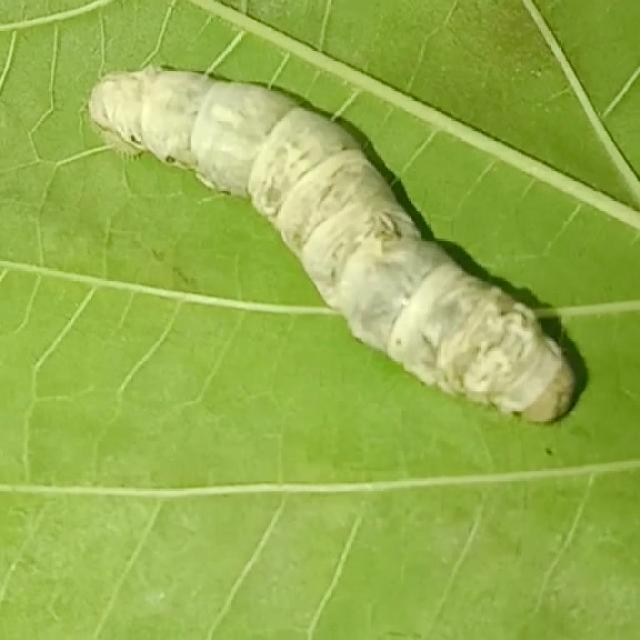Grasserie: (70, 46, 605, 454)
